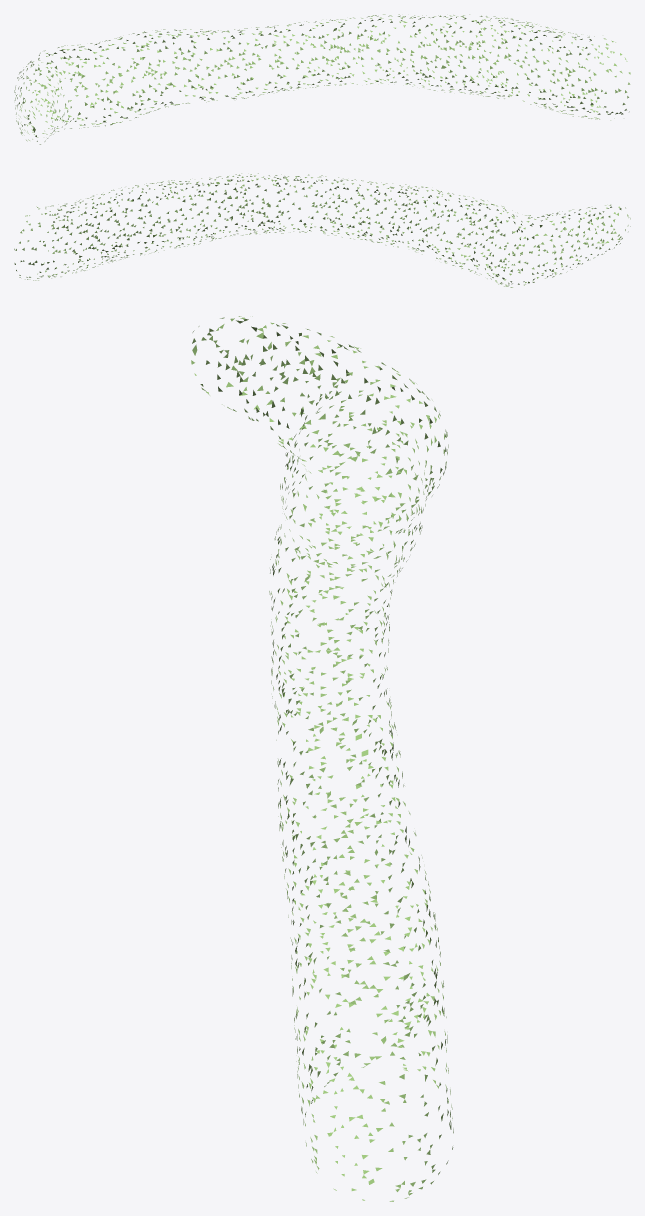
File: morph_013.glb
3 renders of one model, top to bottom at view 1: azimuth 30°, elevation 25°; view 2: azimuth 150°, elevation 25°; view 3: azimuth 270°, elevation 25°, orthographic. The views are drawn at different scales.
Bounding box in the file's own units: 136 × 42.02 × 27.82.
